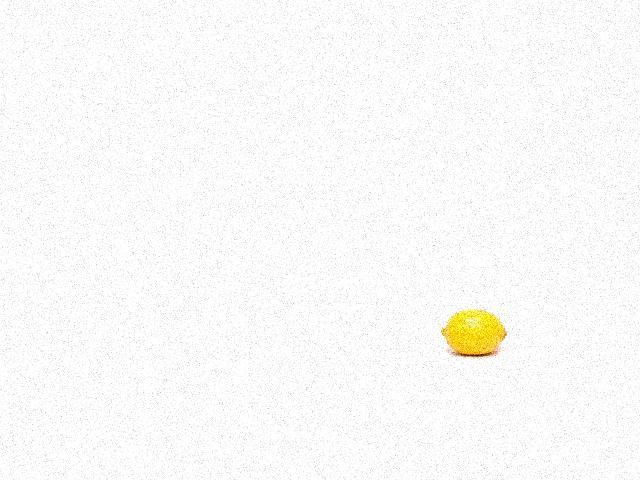lemon: (435, 307, 506, 362)
